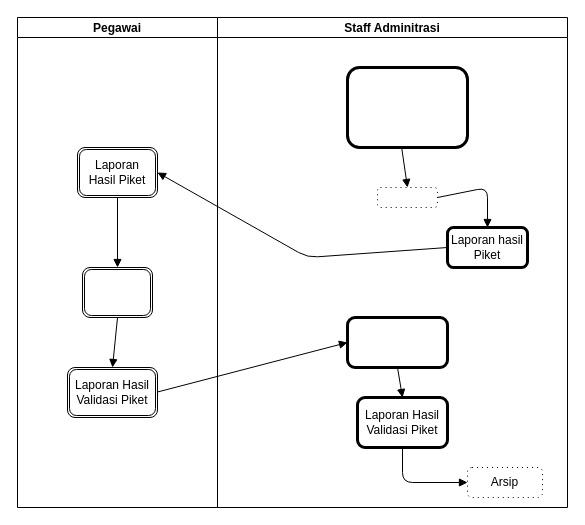
Some shapes in this 585 by 525 pixel diagram are drawn without their labels. Here are the shapes that lost their labels. From the top down, the centre of each, then its label:
At (x=407, y=107): "Input Data Piket".
At (x=407, y=197): "Cetal".
At (x=117, y=292): "Validasi Data Piket".
At (x=397, y=342): "Cetak Laporan Validasi Piket".
